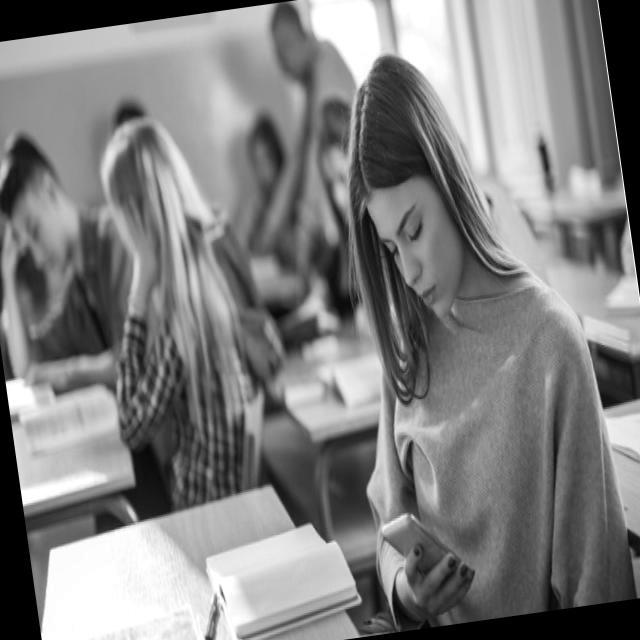phone: (379, 504, 476, 596)
